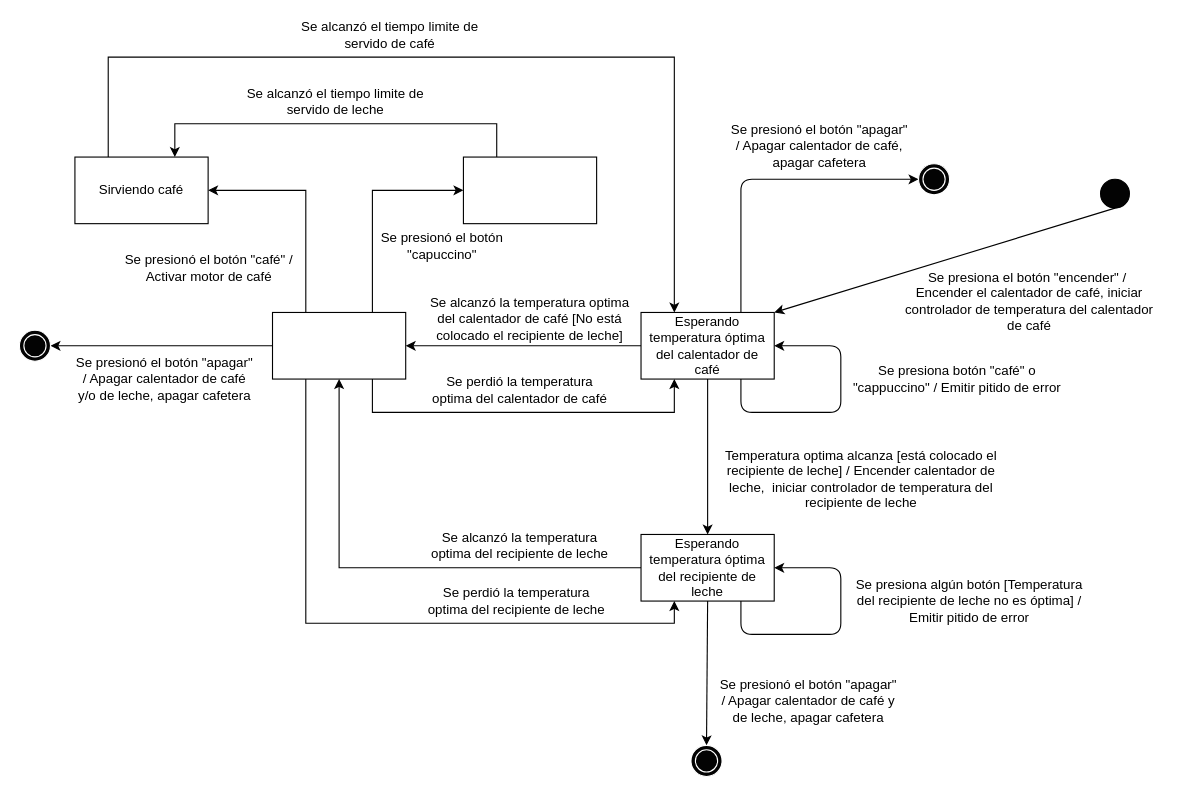
Image size: 1180x796. Some labels were removed from this diagram. Each missing label, with the centre of its shape:
"Esperando selección de opción" belongs at point 338,345.
"Sirviendo leche" belongs at point 529,190.
